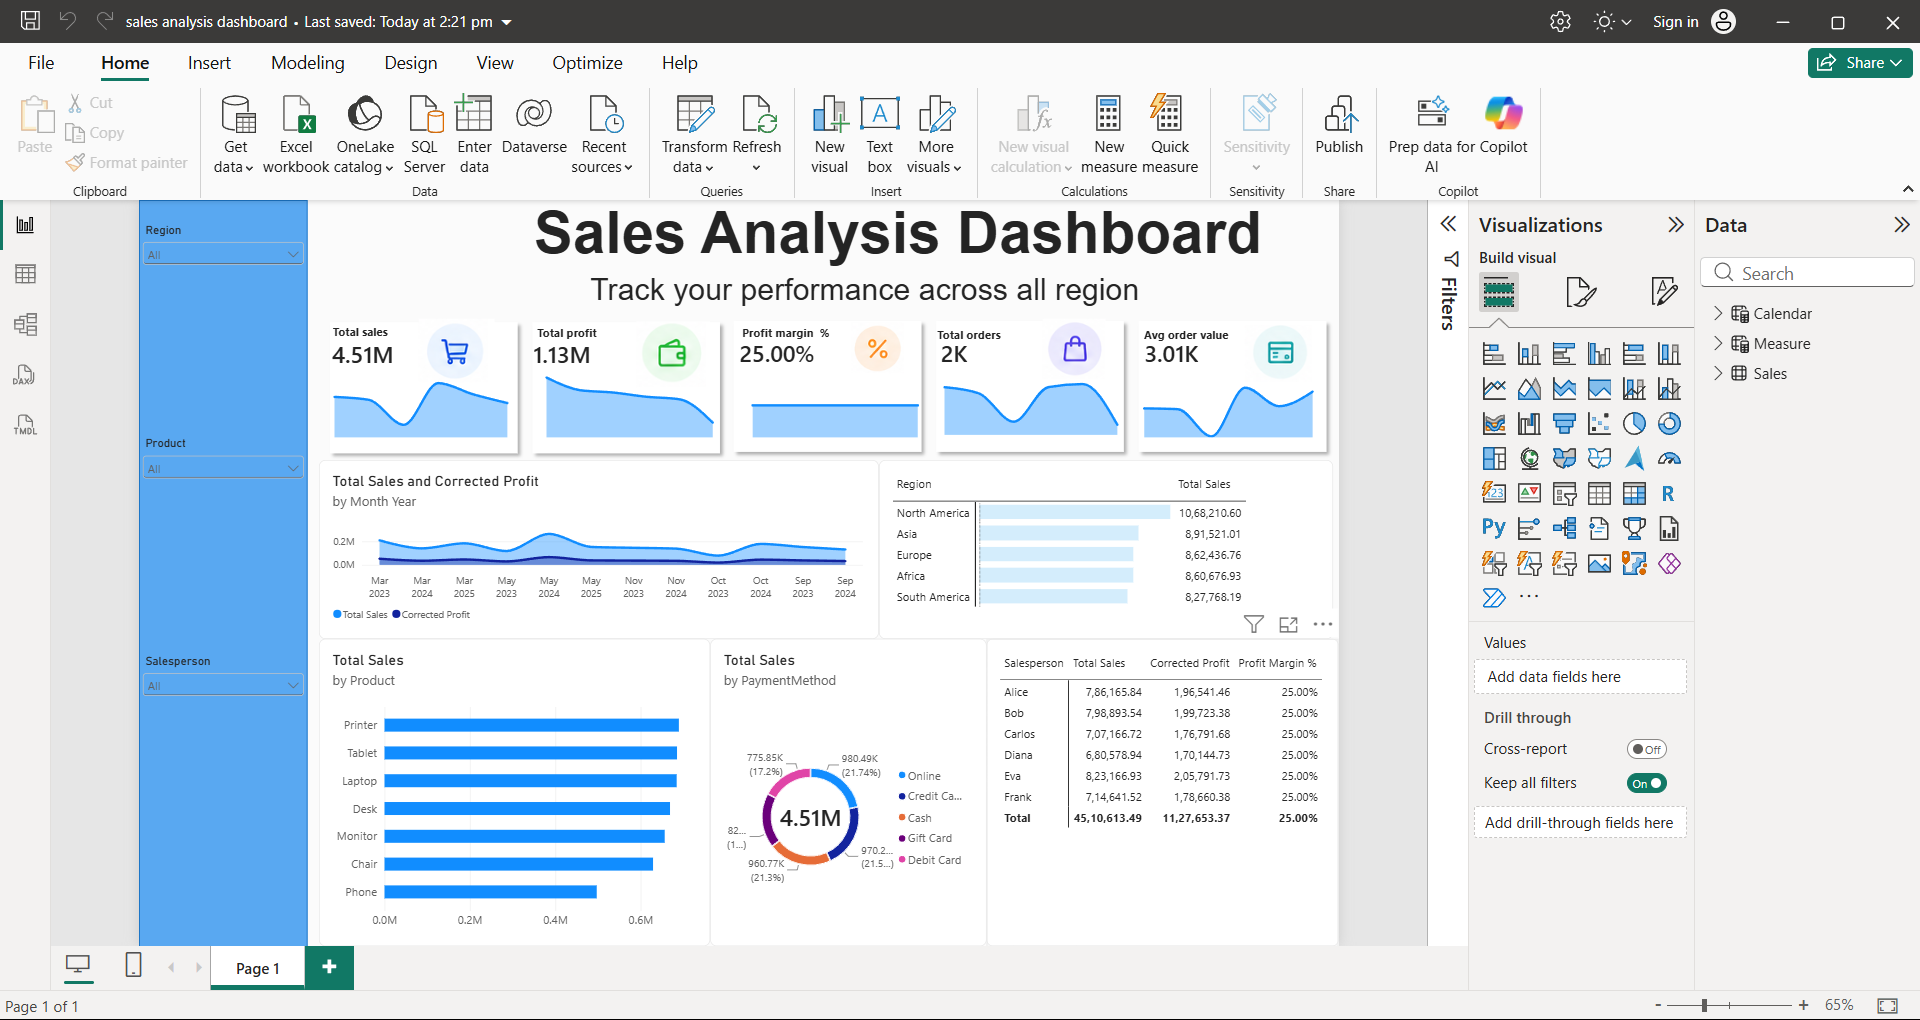

The dashboard page shown, as its layout file describes it:
{"tool":"powerbi","page":{"name":"Page 1","canvas":[1480,920],"ordinal":0},"visuals":[{"type":"textbox","box":[487.1,0,904.4,84.1],"z":1},{"type":"textbox","box":[1602,140,300,300],"z":2},{"type":"textbox","box":[556.9,88.9,736.2,50.8],"z":3},{"type":"shape","box":[0,0,207.8,1080.5],"z":4},{"type":"shape","box":[226.9,141.2,249.1,179.3],"z":9},{"type":"shape","box":[476,141.2,249.1,179.3],"z":10},{"type":"shape","box":[725.1,139.6,249.1,179.3],"z":11},{"type":"shape","box":[974.2,139.6,249.1,179.3],"z":12},{"type":"shape","box":[1223.3,139.6,249.1,179.3],"z":13},{"type":"textbox","box":[239.6,152.3,77.7,22.2],"z":14},{"type":"textbox","box":[487.1,153.9,77.7,20.6],"z":15},{"type":"textbox","box":[739.4,153.9,125.3,20.6],"z":16},{"type":"textbox","box":[980.5,155.5,95.2,22.2],"z":17},{"type":"textbox","box":[1239.2,155.5,109.5,19],"z":18},{"type":"cardVisual","fields":{"Data":["Measure.Total Sales"]},"box":[222.1,152.3,112.7,74.6],"z":19},{"type":"cardVisual","fields":{"Data":["Measure.Corrected Profit"]},"box":[469.6,152.3,112.7,74.6],"z":20},{"type":"cardVisual","fields":{"Data":["Measure.Profit Margin %"]},"box":[725.1,150.7,139.6,74.6],"z":21},{"type":"cardVisual","fields":{"Data":["Measure.Total Orders"]},"box":[972.6,150.7,112.7,74.6],"z":22},{"type":"cardVisual","fields":{"Data":["Measure.Average Order Value"]},"box":[1223.3,150.7,112.7,74.6],"z":23},{"type":"image","box":[1348.6,150.7,111.1,74.6],"z":24},{"type":"image","box":[848.8,150.7,125.3,63.5],"z":25},{"type":"image","box":[334.8,146,114.2,80.9],"z":26},{"type":"image","box":[1099.5,146,107.9,74.6],"z":27},{"type":"image","box":[614,146,90.4,88.9],"z":28},{"type":"areaChart","fields":{"Category":["Calendar.Month Year"],"Y":["Measure.Total Sales"]},"box":[207.8,190.4,279.2,117.4],"z":29},{"type":"areaChart","fields":{"Category":["Calendar.Month Year"],"Y":["Measure.Profit"]},"box":[469.6,190.4,269.7,117.4],"z":30},{"type":"areaChart","fields":{"Category":["Calendar.Month Year"],"Y":["Measure.Profit Margin %"]},"box":[725.1,190.4,268.1,117.4],"z":31},{"type":"areaChart","fields":{"Category":["Calendar.Month Year"],"Y":["Measure.Total Orders"]},"box":[959.9,188.8,279.2,117.4],"z":32},{"type":"areaChart","fields":{"Category":["Calendar.Month Year"],"Y":["Measure.Average Order Value"]},"box":[1207.4,190.4,272.9,117.4],"z":33},{"type":"areaChart","fields":{"Category":["Calendar.Month Year"],"Y":["Measure.Total Sales","Measure.Corrected Profit"]},"box":[222.1,320.5,690.2,220.5],"z":34},{"type":"pivotTable","fields":{"Rows":["Sales.Region"],"Values":["Measure.Sales Bar","Measure.Total Sales"]},"box":[912.3,320.5,560.1,220.5],"z":35},{"type":"clusteredBarChart","fields":{"Category":["Sales.Product"],"Y":["Measure.Total Sales"]},"box":[222,541.1,482.5,379.2],"z":36},{"type":"donutChart","fields":{"Category":["Sales.PaymentMethod"],"Y":["Measure.Total Sales"]},"box":[704.5,541.1,340.7,379.2],"z":37},{"type":"pivotTable","fields":{"Rows":["Sales.Salesperson"],"Values":["Measure.Total Sales","Measure.Corrected Profit","Measure.Profit Margin %"]},"box":[1045.2,541.1,434.7,379.2],"z":38},{"type":"slicer","fields":{"Values":["Sales.Region"]},"box":[0,27.7,208.1,149.5],"z":39},{"type":"slicer","fields":{"Values":["Sales.Product"]},"box":[0,291.4,208.1,149.5],"z":40},{"type":"slicer","fields":{"Values":["Sales.Salesperson"]},"box":[0,559.6,208.1,69.4],"z":41}]}

Visuals, with their boxes on the page's 1480x920 design canvas (x1, y1, x2, y2). These are canvas units, not pixel positions in the 1920x1020 screenshot, which may show the page scaled, cropped or inside an application window:
textbox: box(487, 0, 1392, 84)
textbox: box(1602, 140, 1902, 440)
textbox: box(557, 89, 1293, 140)
shape: box(0, 0, 208, 1080)
shape: box(227, 141, 476, 320)
shape: box(476, 141, 725, 320)
shape: box(725, 140, 974, 319)
shape: box(974, 140, 1223, 319)
shape: box(1223, 140, 1472, 319)
textbox: box(240, 152, 317, 174)
textbox: box(487, 154, 565, 174)
textbox: box(739, 154, 865, 174)
textbox: box(980, 156, 1076, 178)
textbox: box(1239, 156, 1349, 174)
cardVisual - Measure.Total Sales: box(222, 152, 335, 227)
cardVisual - Measure.Corrected Profit: box(470, 152, 582, 227)
cardVisual - Measure.Profit Margin %: box(725, 151, 865, 225)
cardVisual - Measure.Total Orders: box(973, 151, 1085, 225)
cardVisual - Measure.Average Order Value: box(1223, 151, 1336, 225)
image: box(1349, 151, 1460, 225)
image: box(849, 151, 974, 214)
image: box(335, 146, 449, 227)
image: box(1100, 146, 1207, 221)
image: box(614, 146, 704, 235)
areaChart - Calendar.Month Year x Measure.Total Sales: box(208, 190, 487, 308)
areaChart - Calendar.Month Year x Measure.Profit: box(470, 190, 739, 308)
areaChart - Calendar.Month Year x Measure.Profit Margin %: box(725, 190, 993, 308)
areaChart - Calendar.Month Year x Measure.Total Orders: box(960, 189, 1239, 306)
areaChart - Calendar.Month Year x Measure.Average Order Value: box(1207, 190, 1480, 308)
areaChart - Calendar.Month Year x Measure.Total Sales: box(222, 320, 912, 541)
pivotTable - Sales.Region x Measure.Sales Bar: box(912, 320, 1472, 541)
clusteredBarChart - Sales.Product x Measure.Total Sales: box(222, 541, 704, 920)
donutChart - Sales.PaymentMethod x Measure.Total Sales: box(704, 541, 1045, 920)
pivotTable - Sales.Salesperson x Measure.Total Sales: box(1045, 541, 1480, 920)
slicer - Sales.Region: box(0, 28, 208, 177)
slicer - Sales.Product: box(0, 291, 208, 441)
slicer - Sales.Salesperson: box(0, 560, 208, 629)
